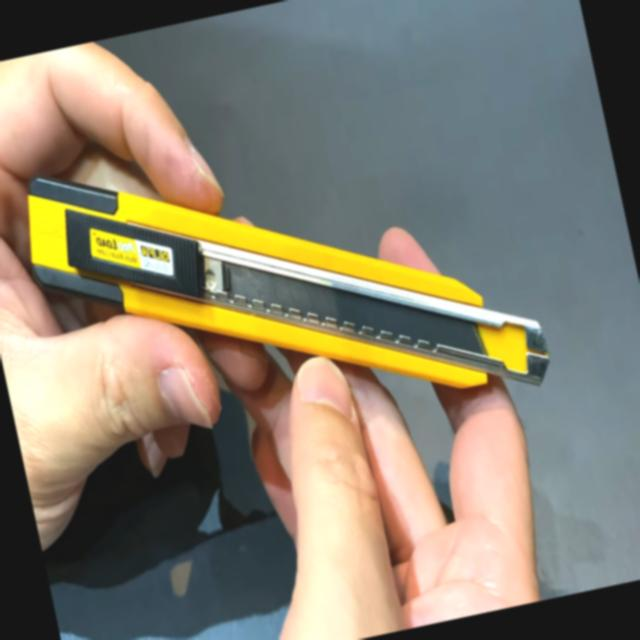cutter: (0, 37, 581, 640)
